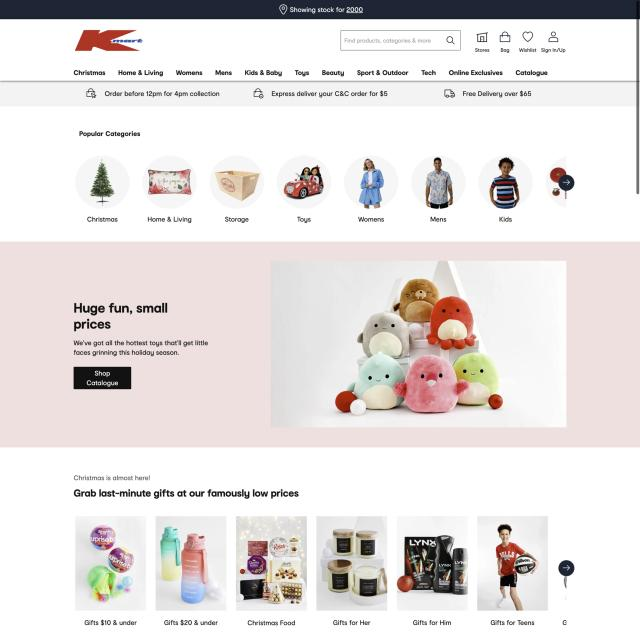input: (340, 28, 462, 52)
logo: (74, 26, 146, 56)
navigation: (73, 151, 589, 229), (71, 66, 552, 79)
